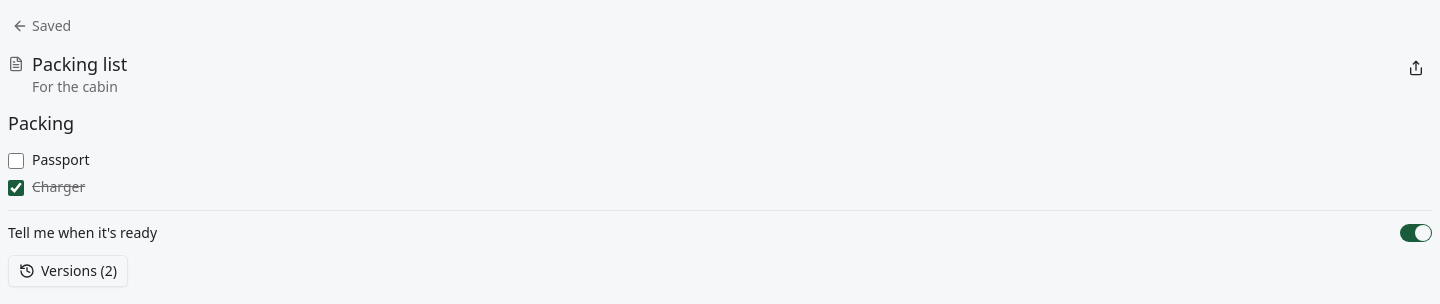
ArtifactView › copies the document as markdown, from the share menu
Click the button named "Share and download" at (1416, 68), box 1400,52 -> 1432,84
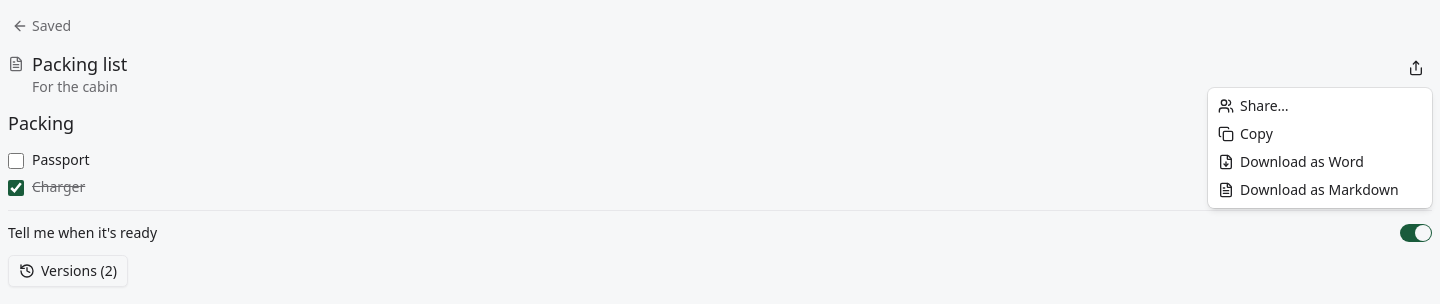
Now the menu is shown, box 1208,88 -> 1432,208
Click the menu item "Copy" at (1245, 134), box 1218,124 -> 1273,143
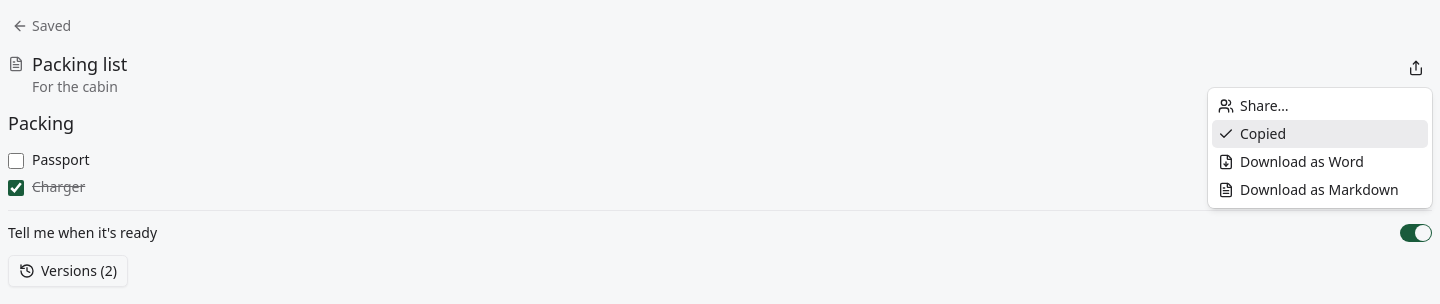
Now the menu item "Copied" is shown, box 1212,120 -> 1428,148
